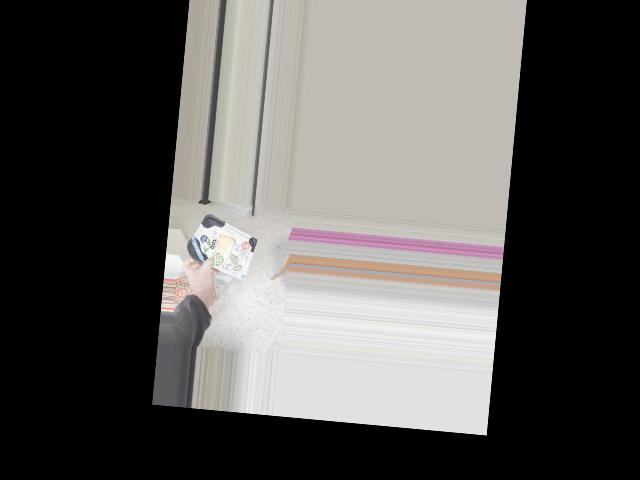cheese: (183, 217, 258, 270)
